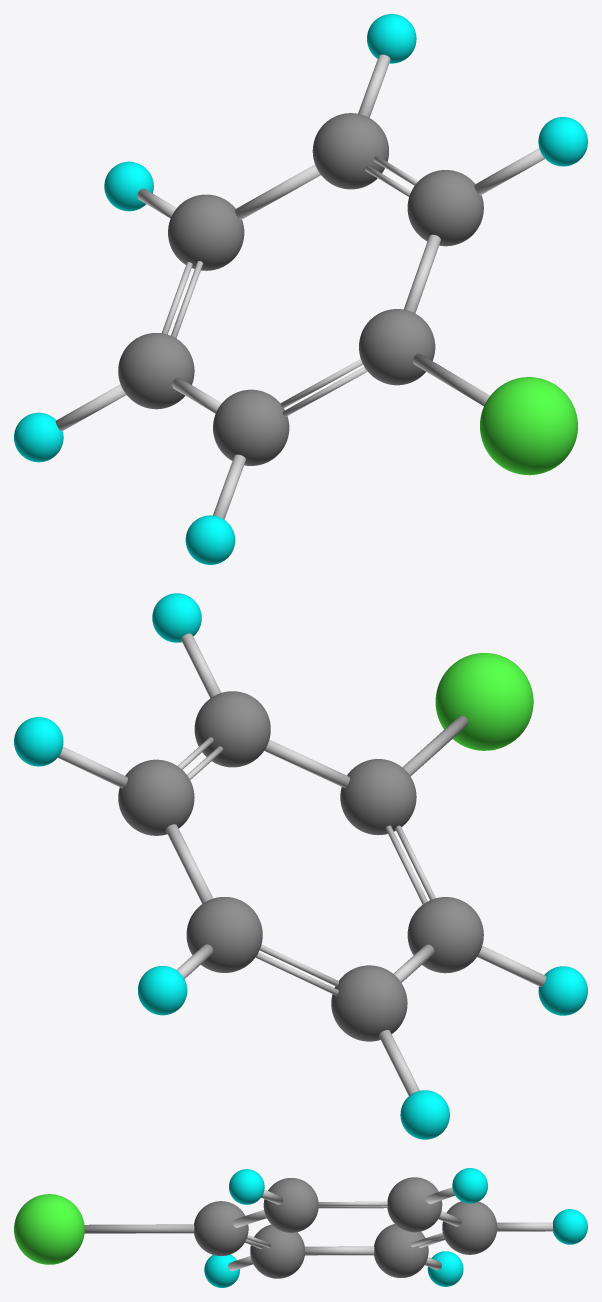
The model's file is chlorobenzene.glb.
The picture shows the model from 3 angles, top to bottom: view 1: azimuth 30°, elevation 25°; view 2: azimuth 150°, elevation 25°; view 3: azimuth 270°, elevation 25°; orthographic projection. The views are drawn at different scales.
Parts seen in each view (by area): view 1: CMAtom_0; view 2: CMAtom_0; view 3: CMAtom_0.
Part boxes in pixels (bbox=[...]): CMAtom_0: bbox=[14, 14, 587, 564]; CMAtom_0: bbox=[14, 593, 587, 1139]; CMAtom_0: bbox=[14, 1168, 587, 1287].
Bounding box in the file's own units: 0.4 × 0.3092 × 0.6422.
